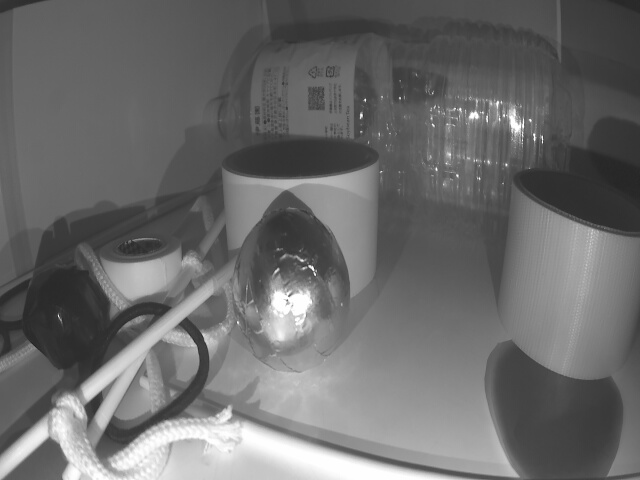Dead: (26, 269, 114, 360)
Live: (238, 214, 355, 375)
